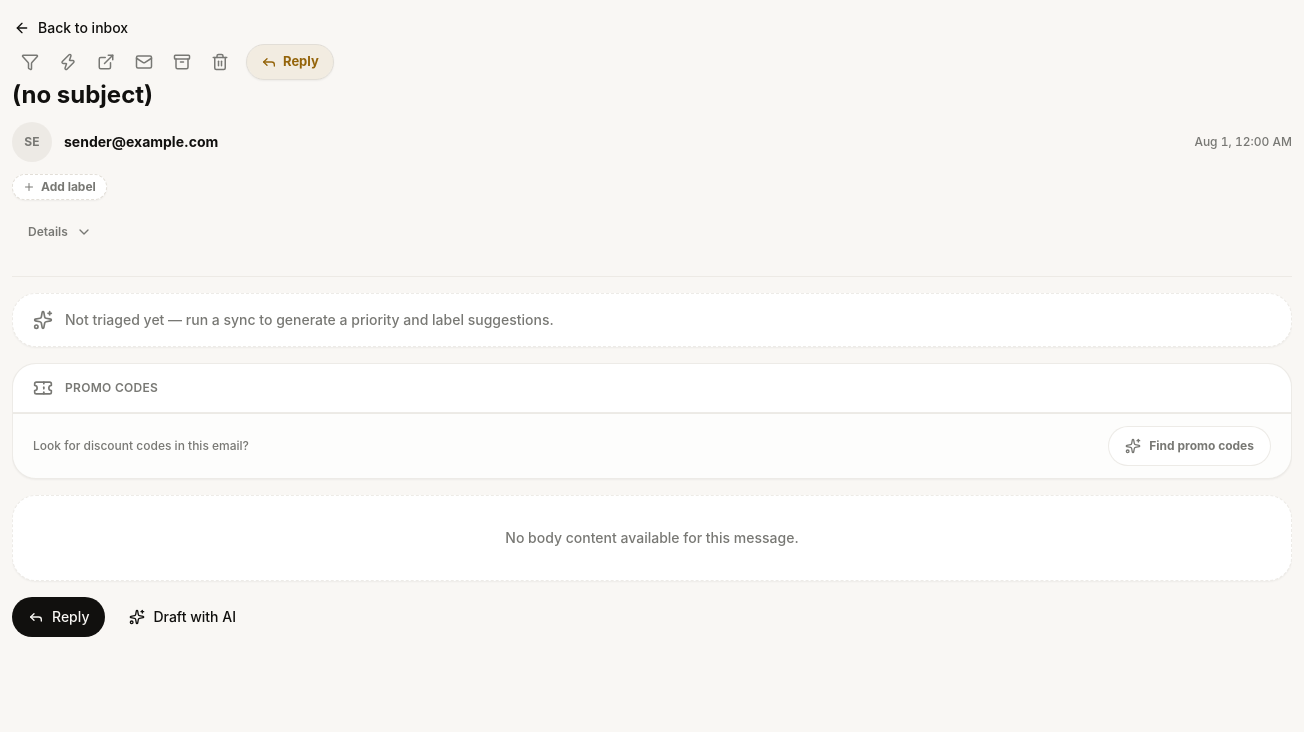
Test: attaching one › says so when the labels could not be read, rather than offering none
Click the button "Add label" at {"x": 59, "y": 187}, box [12,174,107,200]
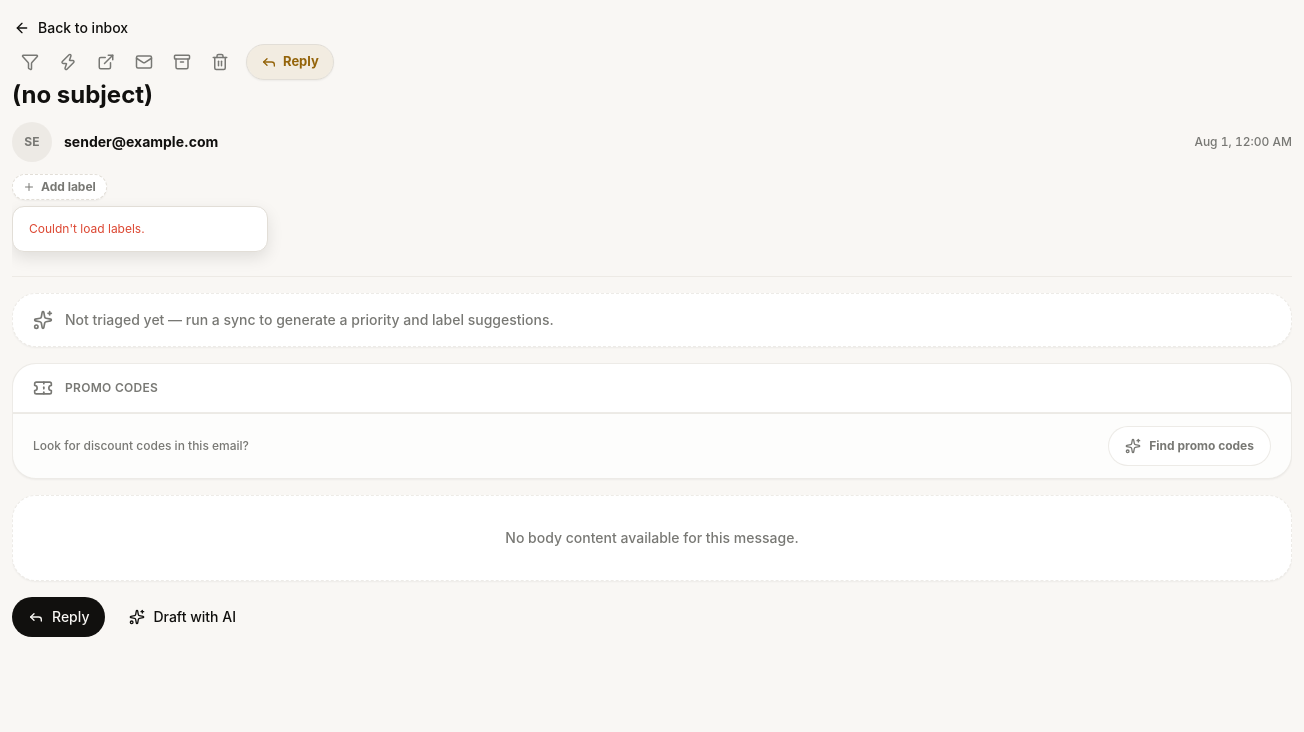
Now the text "Couldn't load labels." is shown, box [29,221,145,236]
